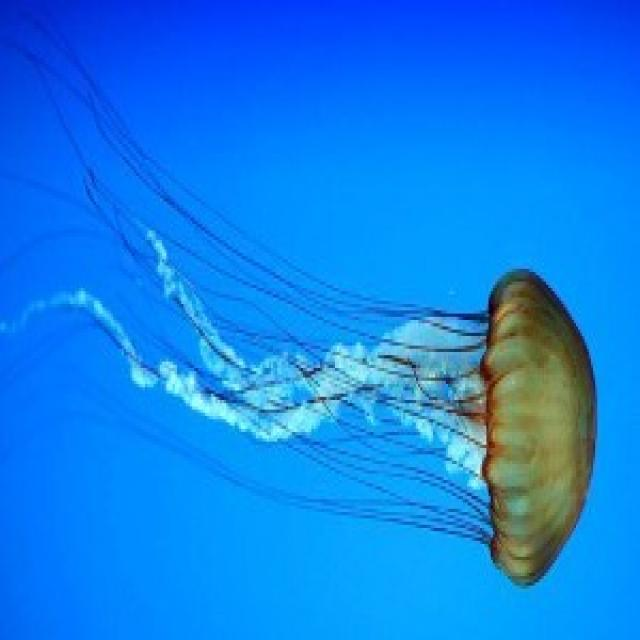Jellyfish: (208, 272, 601, 590)
